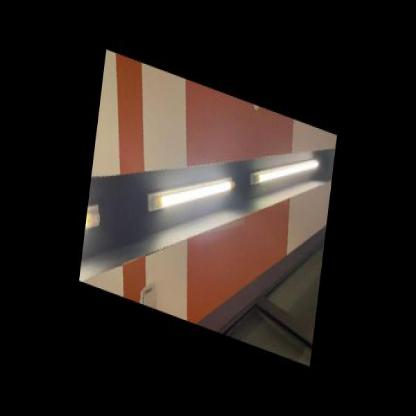light_on: (144, 143, 235, 244), (244, 129, 319, 214), (84, 195, 108, 244)
